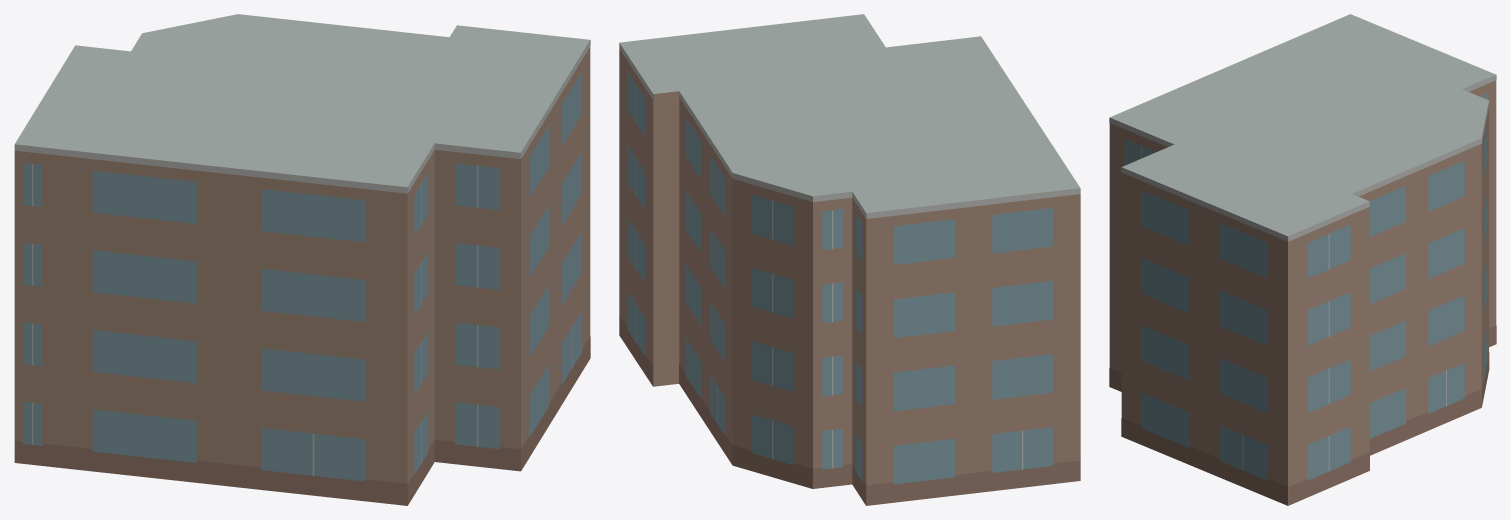
The model's file is residential-35e15300-cc55-4ce3-8b98-7e6db6e62c25.glb.
3 views of the same model, side by side, from view 1: azimuth 30°, elevation 25°; view 2: azimuth 150°, elevation 25°; view 3: azimuth 270°, elevation 25° (orthographic). The views are drawn at different scales.
Visible parts, largest first — view 1: residential-35e15300-cc55-4ce3-8b98-7e6db6e62c25.tmp; view 2: residential-35e15300-cc55-4ce3-8b98-7e6db6e62c25.tmp; view 3: residential-35e15300-cc55-4ce3-8b98-7e6db6e62c25.tmp.
Boxes of the visible parts, x1,y1,x2,y2 form: residential-35e15300-cc55-4ce3-8b98-7e6db6e62c25.tmp: (14,14,590,505); residential-35e15300-cc55-4ce3-8b98-7e6db6e62c25.tmp: (619,14,1080,505); residential-35e15300-cc55-4ce3-8b98-7e6db6e62c25.tmp: (1109,14,1496,505).
Size of the model in its own units: 21.61 by 12.2 by 15.88.
